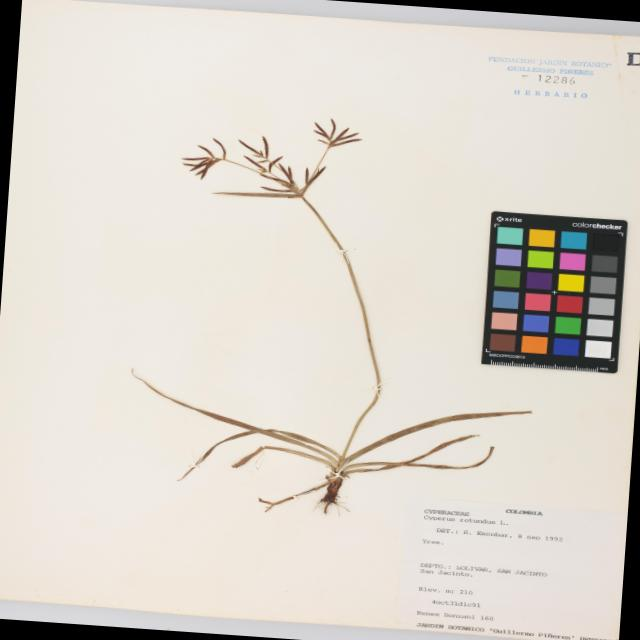cyperus: (166, 103, 386, 211)
